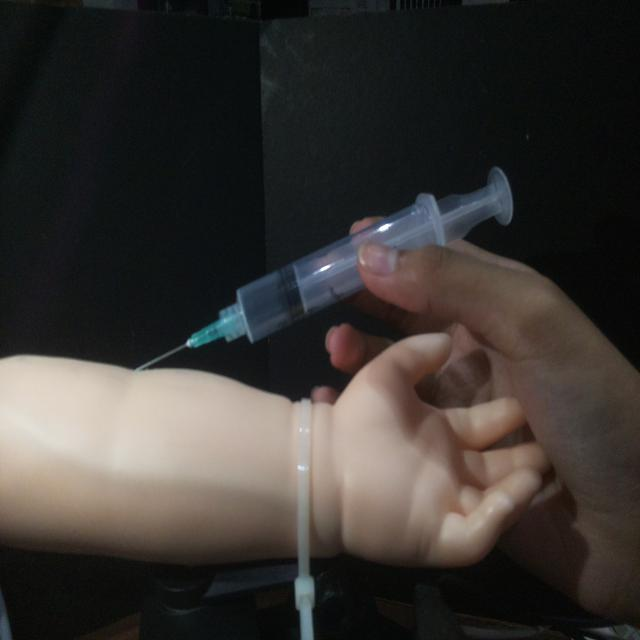22deg: (131, 161, 518, 374)
